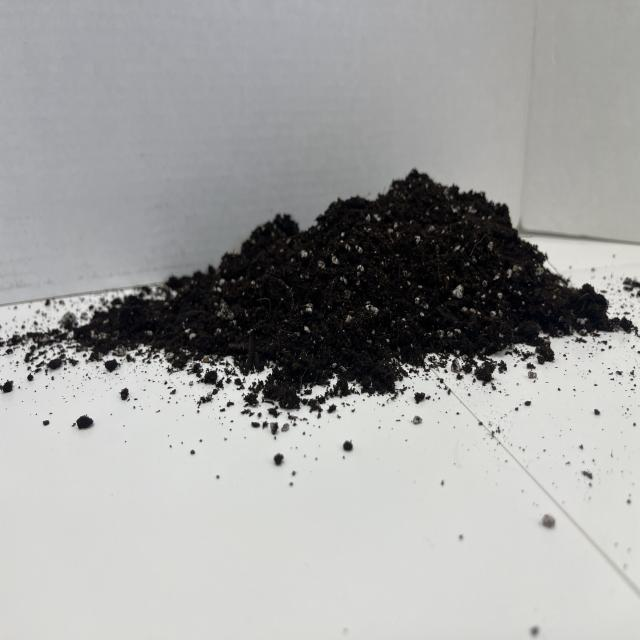soil: (44, 166, 629, 410)
